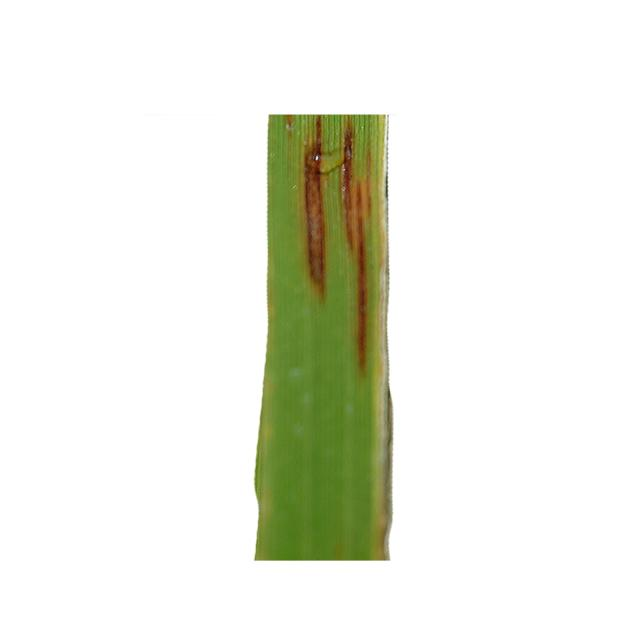Narrow brown: (192, 39, 482, 614)
